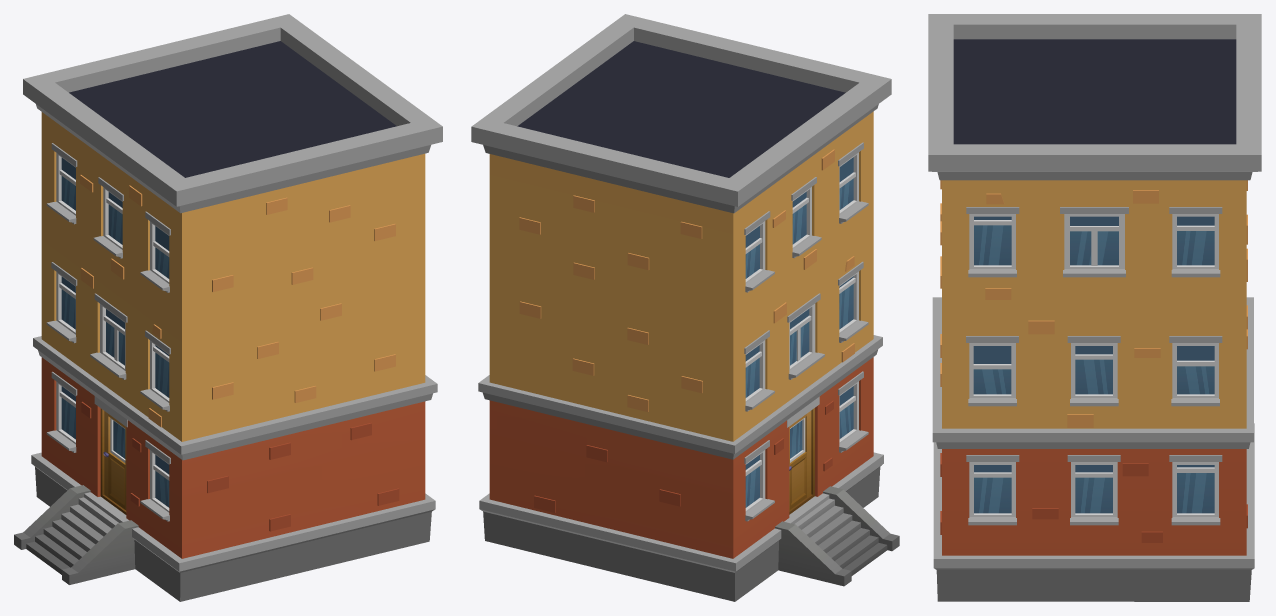
File: Building_2_7_E.fbx
3 renders of one model, left to right at view 1: azimuth 30°, elevation 25°; view 2: azimuth 150°, elevation 25°; view 3: azimuth 270°, elevation 25°, orthographic. The views are drawn at different scales.
Parts seen in each view (by area): view 1: Building_2_7_E; view 2: Building_2_7_E; view 3: Building_2_7_E.
Boxes of the visible parts, box(x1,y1,x2,y2) form: Building_2_7_E: box(14, 14, 442, 601); Building_2_7_E: box(471, 14, 899, 601); Building_2_7_E: box(928, 14, 1261, 601).
Size of the model in its own units: 754 by 926 by 620.
